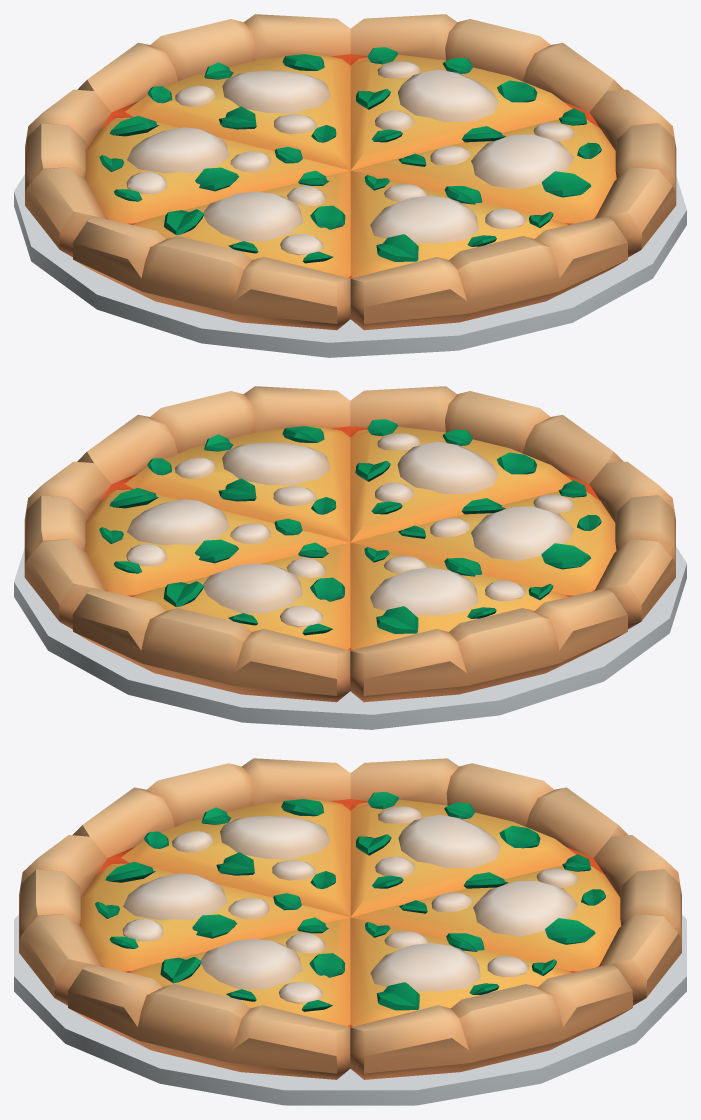
Rendered from food_pizza_cheese_plated.obj.
3 views of the same model, one above another, from view 1: azimuth 30°, elevation 25°; view 2: azimuth 150°, elevation 25°; view 3: azimuth 270°, elevation 25° (orthographic).
Visible parts, largest first — view 1: food_pizza_cheese_plated_Cylinder.219; view 2: food_pizza_cheese_plated_Cylinder.219; view 3: food_pizza_cheese_plated_Cylinder.219.
Boxes of the visible parts, left/top/right/bottom form: food_pizza_cheese_plated_Cylinder.219: left=14, top=14, right=686, bottom=357; food_pizza_cheese_plated_Cylinder.219: left=14, top=386, right=686, bottom=729; food_pizza_cheese_plated_Cylinder.219: left=14, top=758, right=686, bottom=1105.
Bounding box in the file's own units: 2 × 0.3 × 2.
Materials: 1 (1 with a texture image).
